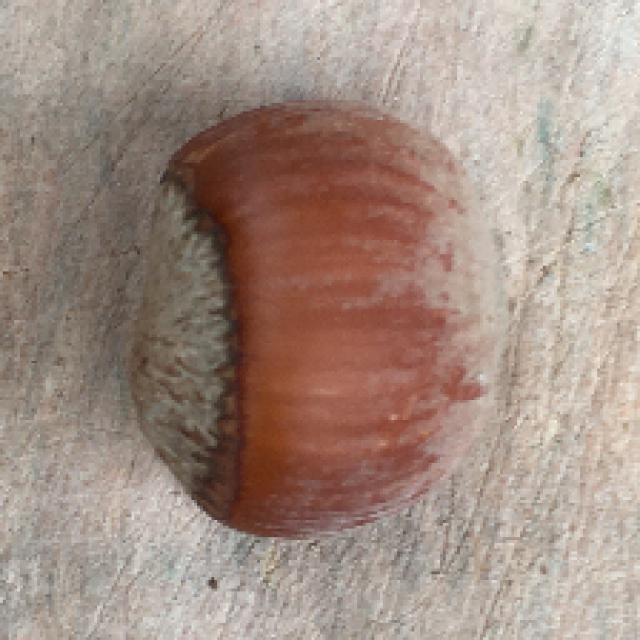QualityHazelnut: (132, 102, 516, 540)
